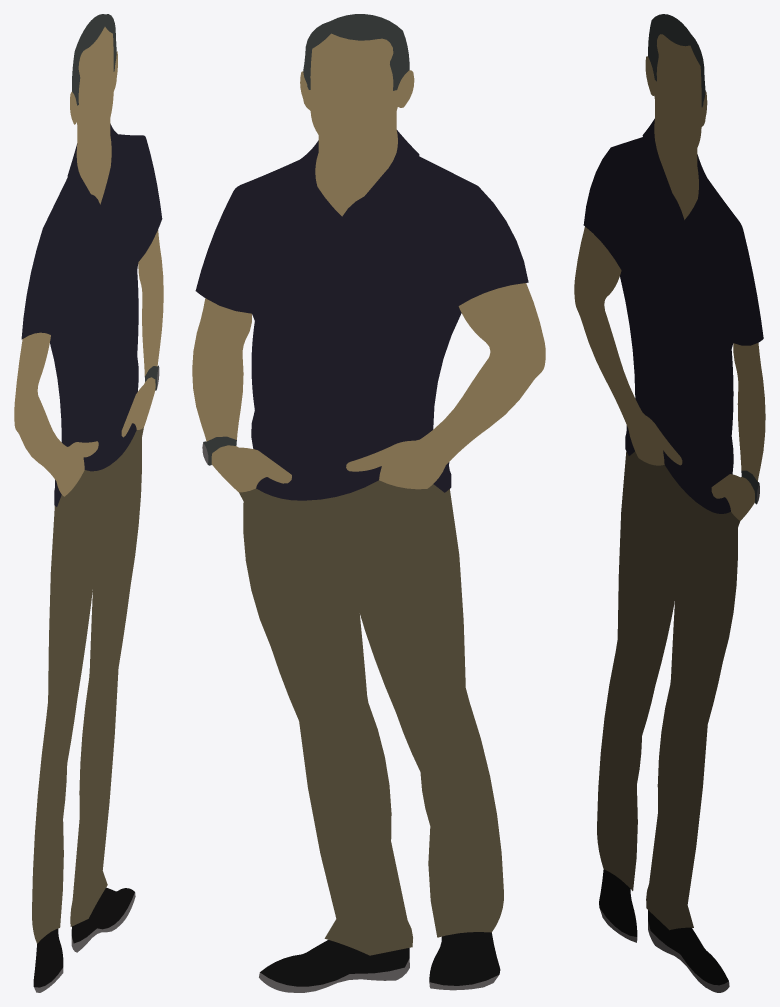
3 views of the same model, side by side, from view 1: azimuth 30°, elevation 25°; view 2: azimuth 150°, elevation 25°; view 3: azimuth 270°, elevation 25° (orthographic). The views are drawn at different scales.
Visible parts, largest first — view 1: Chris; view 2: Chris; view 3: Chris.
Part boxes in pixels (x1,y1,x2,y2): Chris: (14,14,163,992); Chris: (192,14,545,992); Chris: (574,14,765,992).
Size of the model in its own units: 0.4819 by 1.77 by 0.3213.
